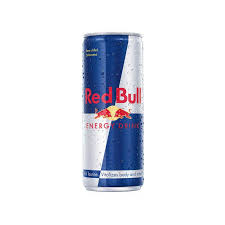can: (80, 27, 148, 196)
